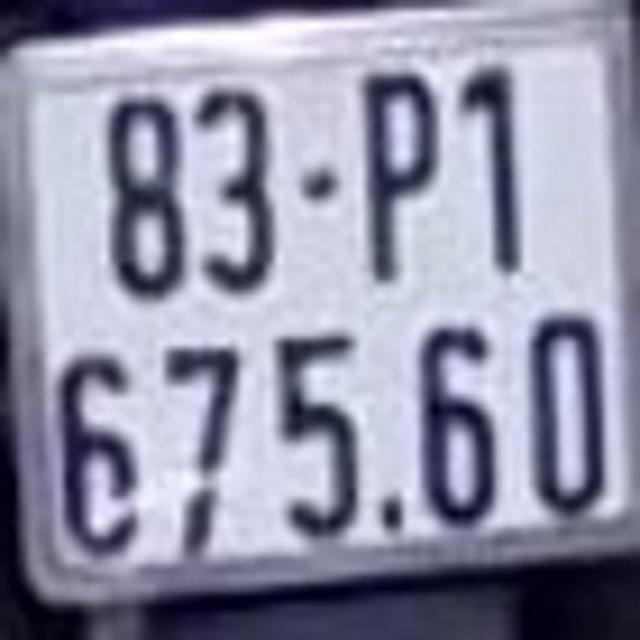0: (527, 298, 604, 514)
1: (458, 63, 521, 283)
3: (193, 89, 280, 289)
5: (272, 326, 364, 544)
6: (52, 347, 136, 559), (420, 319, 495, 524)
7: (160, 338, 246, 560)
8: (112, 90, 185, 304)
P: (353, 64, 442, 288)
